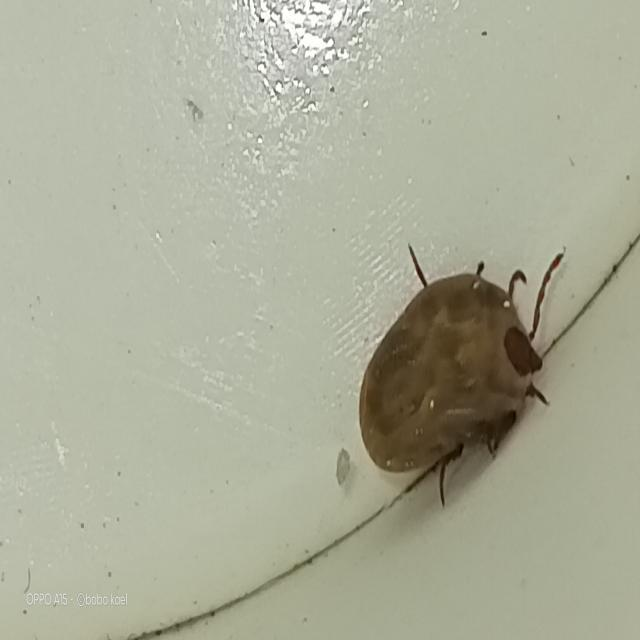Rhipicephalus Sanguineus-F-Fed: (358, 243, 567, 508)
